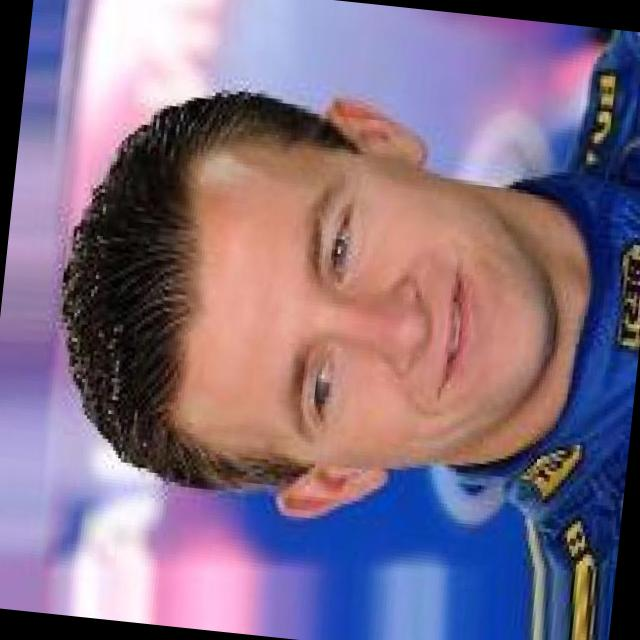bareface: (70, 104, 573, 526)
